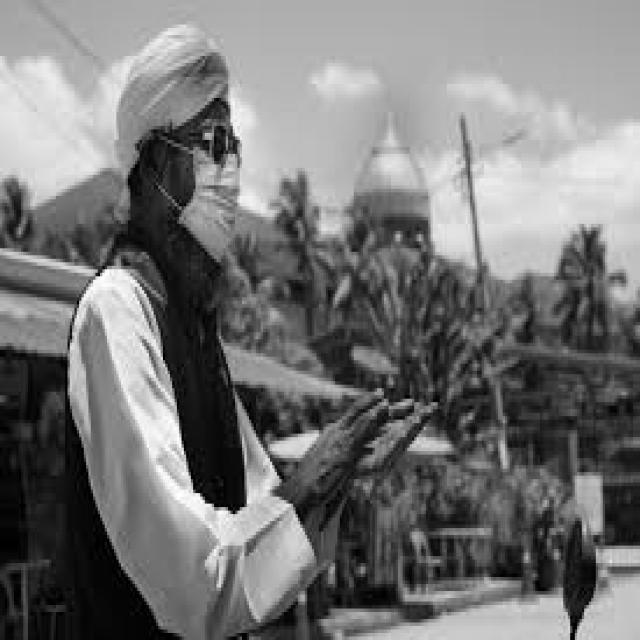without_mask: (144, 119, 242, 266)
